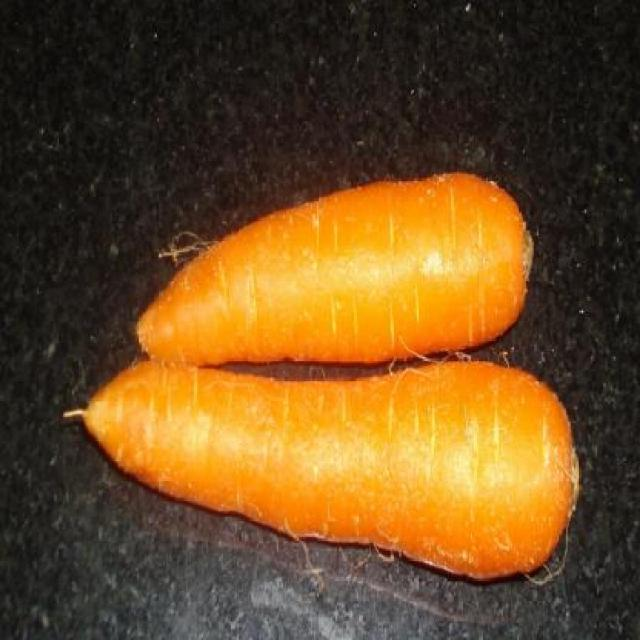carrot: (55, 362, 584, 577), (138, 176, 538, 370)
